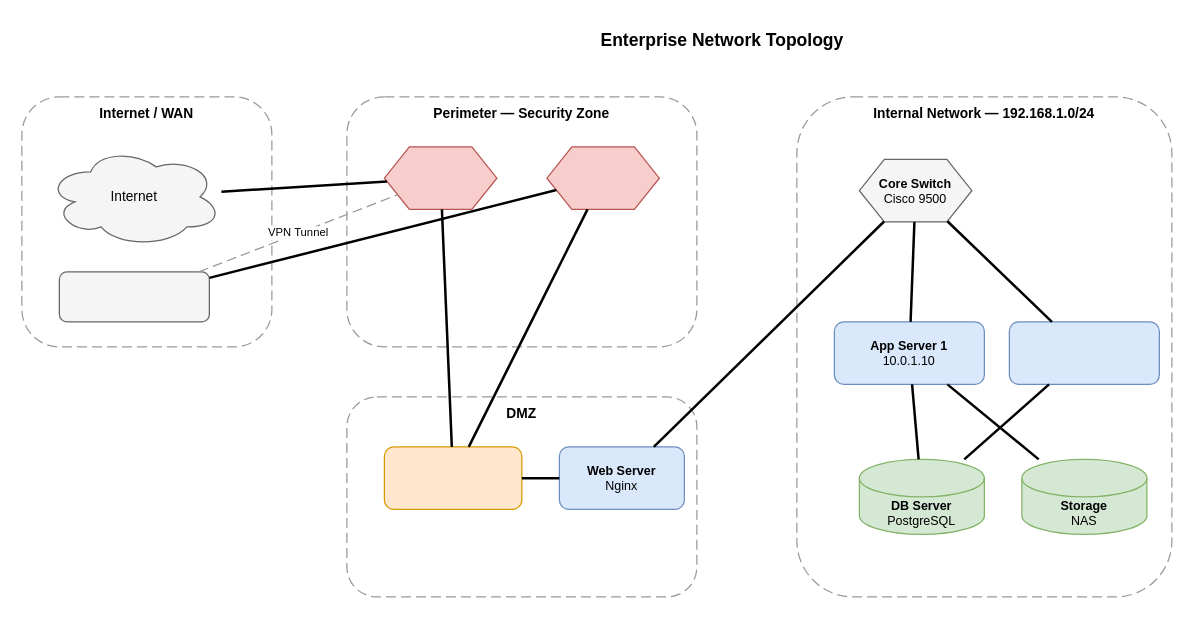
Image size: 1194x619. Some labels were removed from this diagram. The centre of each missing label's shape, as x and y in pixels:
App Server 2 10.0.1.11: pixel 1083 352
Branch Office: pixel 133 296
Firewall Primary: pixel 440 177
Firewall Secondary: pixel 602 177
Load Balancer HAProxy: pixel 452 477
